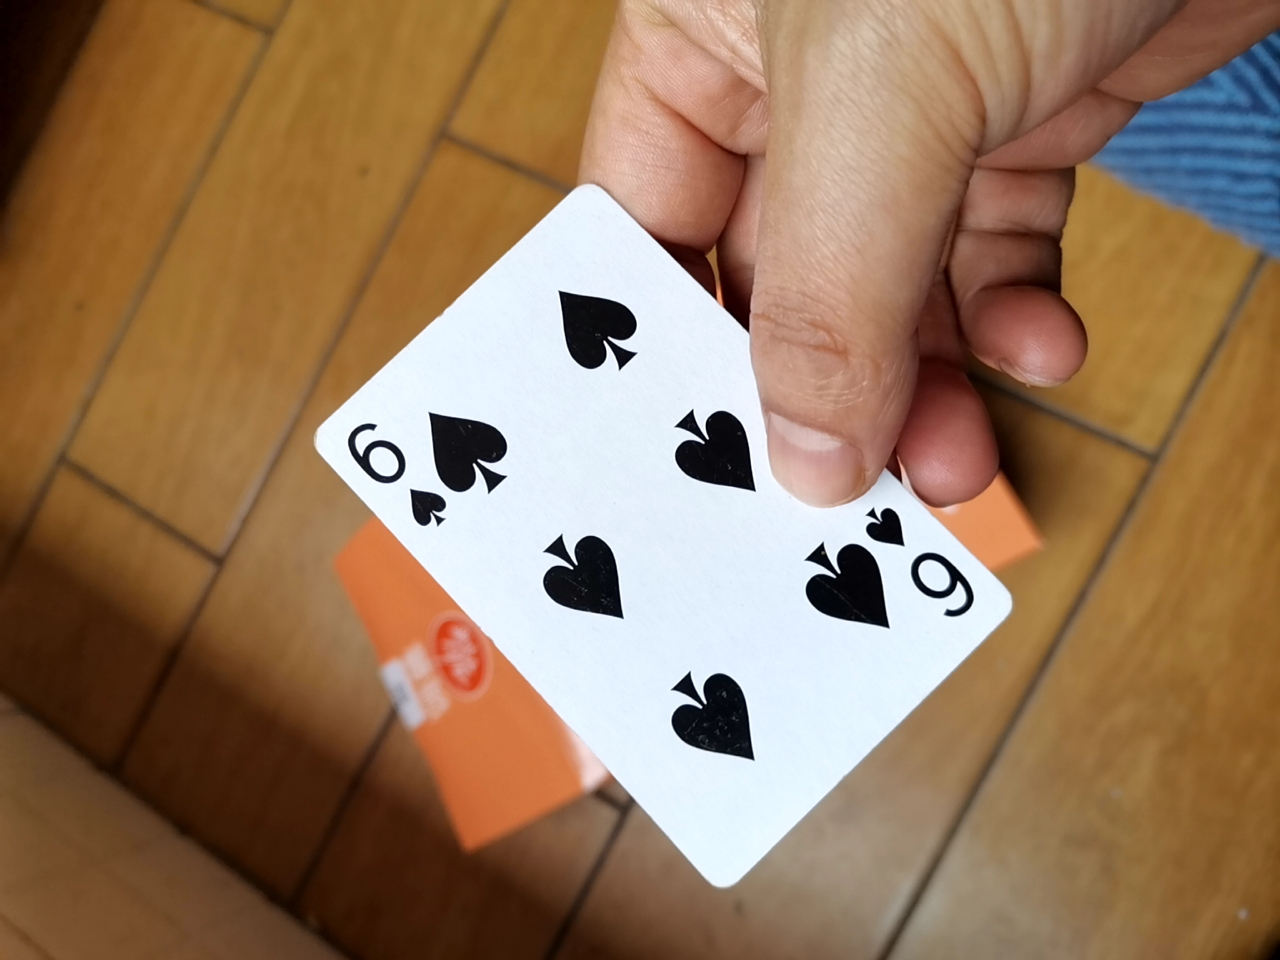ht 6: (295, 173, 1007, 913)
